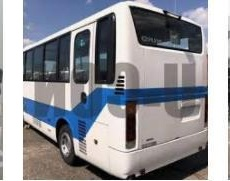bus: (24, 4, 209, 178)
